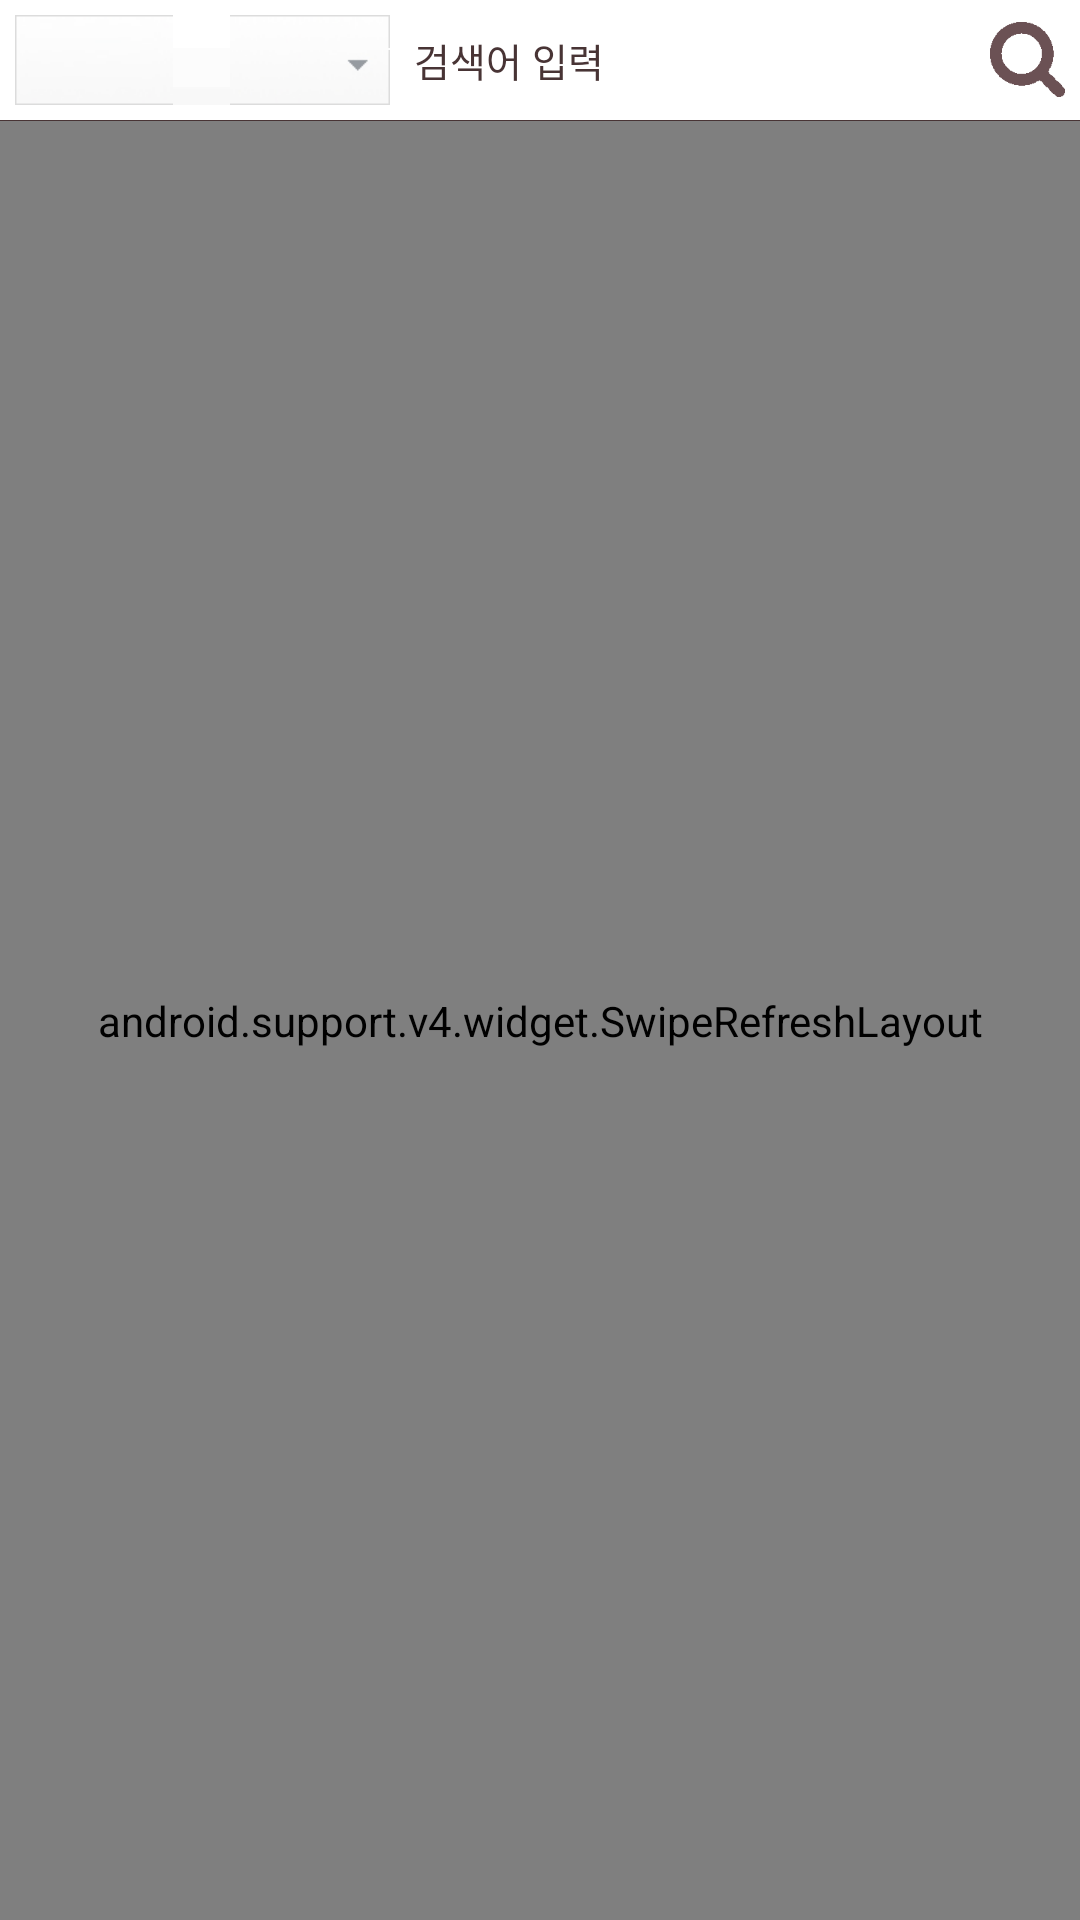

Screen size 1080×1920. Icon name, then its center in pixels as [x,y]:
search: [1027,59]
